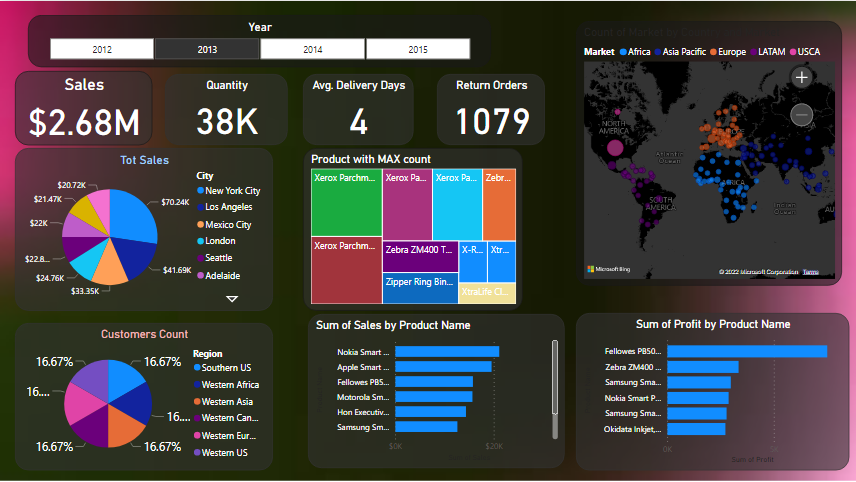

This screenshot's page, from the dashboard's own definition file:
{"tool":"powerbi","page":{"name":"Page 1","canvas":[1280,720],"ordinal":0},"visuals":[{"type":"card","title":"Sales","fields":{"Values":["Sum(Orders.Sales)"]},"box":[21.8,104.1,204.9,110.9],"z":0},{"type":"card","title":"Quantity","fields":{"Values":["Sum(Orders.Quantity)"]},"box":[246.9,109.2,183.1,105.8],"z":1000},{"type":"card","title":"Avg. Delivery Days","fields":{"Values":["Avg(Orders.Delivery Days)"]},"box":[451.9,109.2,164.6,105.8],"z":2000},{"type":"card","title":"Return Orders","fields":{"Values":["Sum(Returns.Return Orders)"]},"box":[651.8,109.2,161.3,105.8],"z":3000},{"type":"barChart","fields":{"Category":["Orders.Product Name"],"Y":["Sum(Orders.Profit)"]},"box":[860,465,407.5,235],"z":4000},{"type":"barChart","fields":{"Category":["Orders.Product Name"],"Y":["Sum(Orders.Sales)"]},"box":[460,467.5,382.5,230],"z":5000},{"type":"pieChart","title":"Tot Sales","fields":{"Category":["Orders.City"],"Y":["Sum(Orders.Sales)"]},"box":[22.5,220,385,242.5],"z":6000},{"type":"pieChart","title":"Customers Count","fields":{"Y":["CountNonNull(People.Person)"],"Category":["People.Region"]},"box":[21.8,480.4,384.7,220.1],"z":7000},{"type":"treemap","title":"Product with MAX count","fields":{"Group":["Orders.Product Name"],"Values":["CountNonNull(Orders.Region)"]},"box":[452.5,220,327.5,242.5],"z":8000},{"type":"map","fields":{"Category":["Orders.Country"],"Series":["Orders.Market"],"Size":["CountNonNull(Orders.Market)"]},"box":[860.3,29.8,396.9,395.4],"z":9000},{"type":"slicer","title":"Year","fields":{"Values":["Orders.Year"]},"box":[41.3,20.6,690.9,78.5],"z":10000}]}

Visuals, with their boxes in screenshot pixels (x1, y1, x2, y2), scaled from the page's 1280x720 canvas onto the 856x482 screenshot:
"Sales" card: [x1=15, y1=70, x2=152, y2=144]
"Quantity" card: [x1=165, y1=73, x2=288, y2=144]
"Avg. Delivery Days" card: [x1=302, y1=73, x2=412, y2=144]
"Return Orders" card: [x1=436, y1=73, x2=544, y2=144]
barChart - Orders.Product Name x Sum(Orders.Profit): [x1=575, y1=311, x2=848, y2=469]
barChart - Orders.Product Name x Sum(Orders.Sales): [x1=308, y1=313, x2=563, y2=467]
"Tot Sales" pieChart: [x1=15, y1=147, x2=273, y2=310]
"Customers Count" pieChart: [x1=15, y1=322, x2=272, y2=469]
"Product with MAX count" treemap: [x1=303, y1=147, x2=522, y2=310]
map - Orders.Country x Orders.Market: [x1=575, y1=20, x2=841, y2=285]
"Year" slicer: [x1=28, y1=14, x2=490, y2=66]
